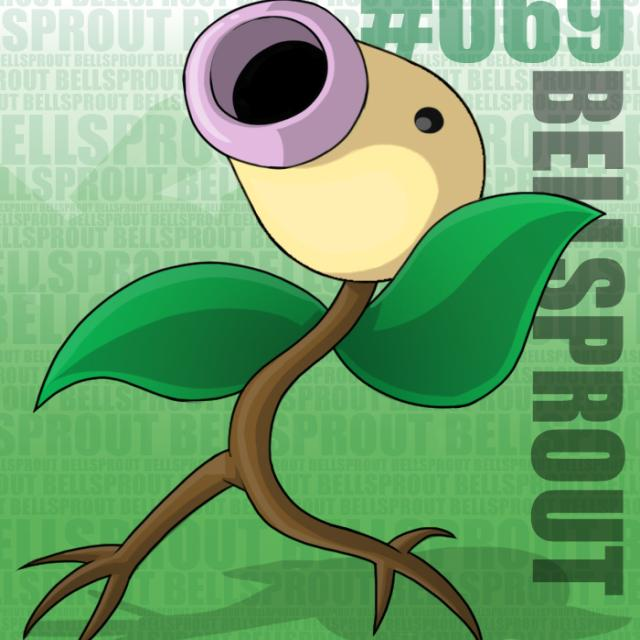Bellsprout: (169, 5, 485, 509)
